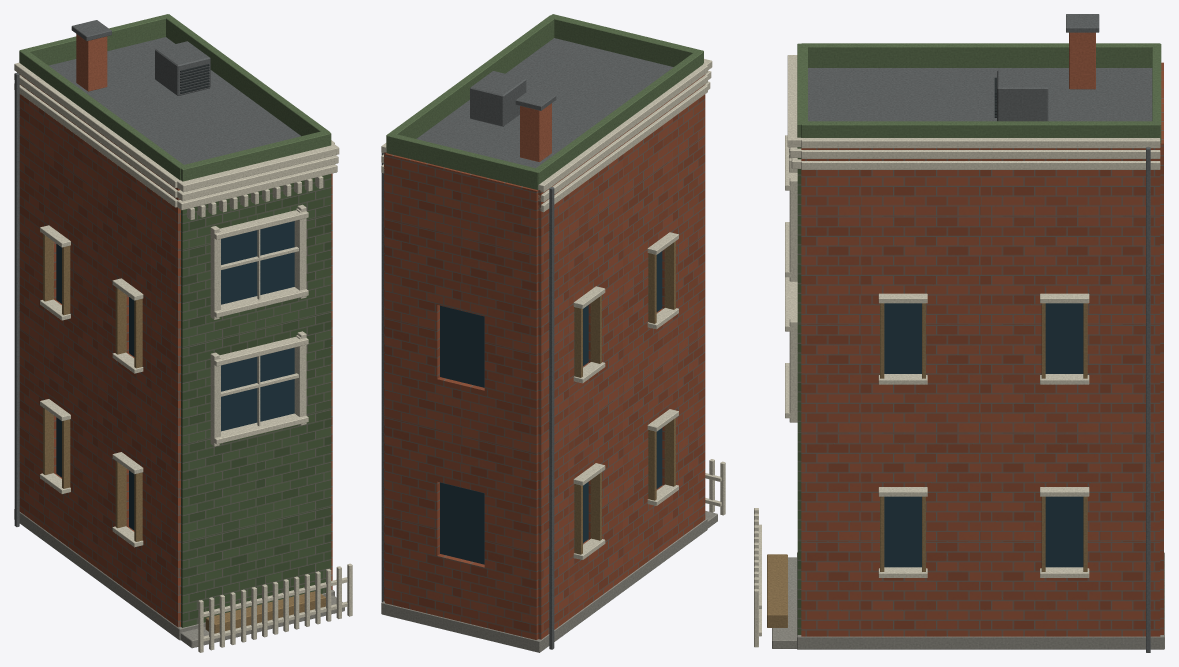
Rendered from VICT26_lod1.glb.
The picture shows the model from 3 angles, left to right: view 1: azimuth 30°, elevation 25°; view 2: azimuth 150°, elevation 25°; view 3: azimuth 270°, elevation 25°; orthographic projection. The views are drawn at different scales.
Visible parts, largest first — view 1: VICT26_LOD1; view 2: VICT26_LOD1; view 3: VICT26_LOD1.
Boxes of the visible parts, x1,y1,x2,y2 form: VICT26_LOD1: [14, 14, 352, 652]; VICT26_LOD1: [381, 14, 725, 652]; VICT26_LOD1: [754, 14, 1164, 652].
Size of the model in its own units: 3.71 by 10.45 by 6.87.
Materials: 11 (9 with a texture image).
